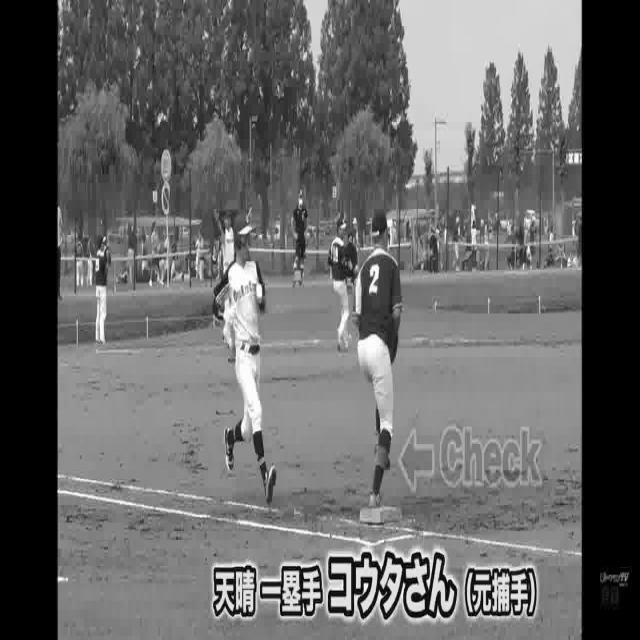base: (358, 506, 401, 524)
shoe: (222, 425, 240, 482), (265, 461, 279, 511), (368, 488, 386, 513)
